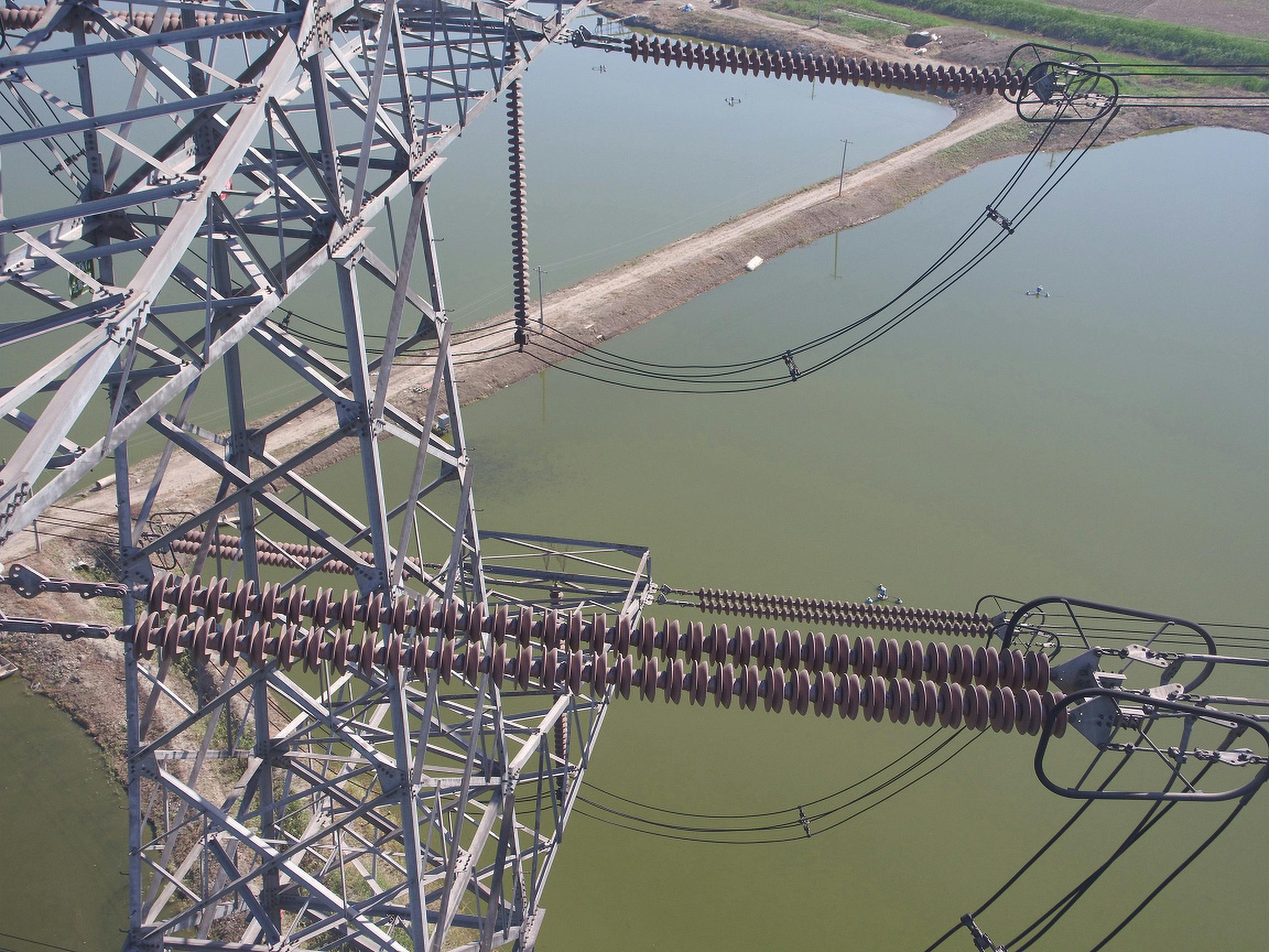insulator: (124, 567, 1071, 741), (626, 29, 1032, 99), (696, 585, 996, 641), (170, 527, 421, 583), (1, 2, 292, 42), (501, 42, 532, 329), (547, 588, 572, 788)
